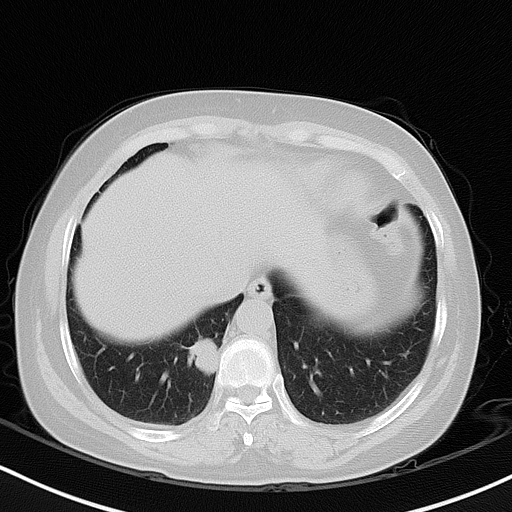nodule: (185, 338, 218, 376)
